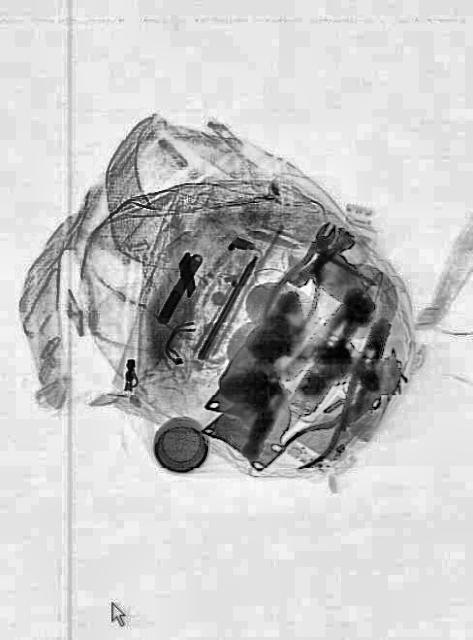Pliers: (256, 207, 352, 346), (278, 376, 384, 478)
